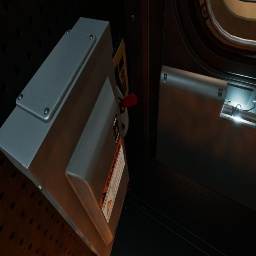EmergencyPhone ,: (112, 33, 129, 98)
SafetySwitchPanel ,: (0, 17, 137, 256)
